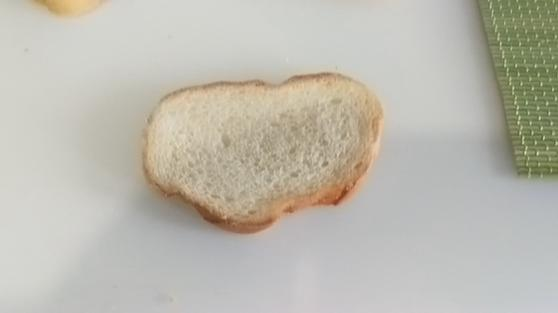white_bread: (142, 74, 383, 233)
